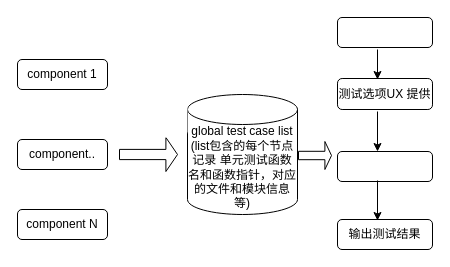
Some shapes in this 450 by 267 pixel diagram are drawn without their labels. Each missing label, with the centre of its shape:
"component unity testcase register" belongs at (137,117).
"unity test task" belongs at (384,32).
"根据用户的输入从case list选择" belongs at (384,166).
